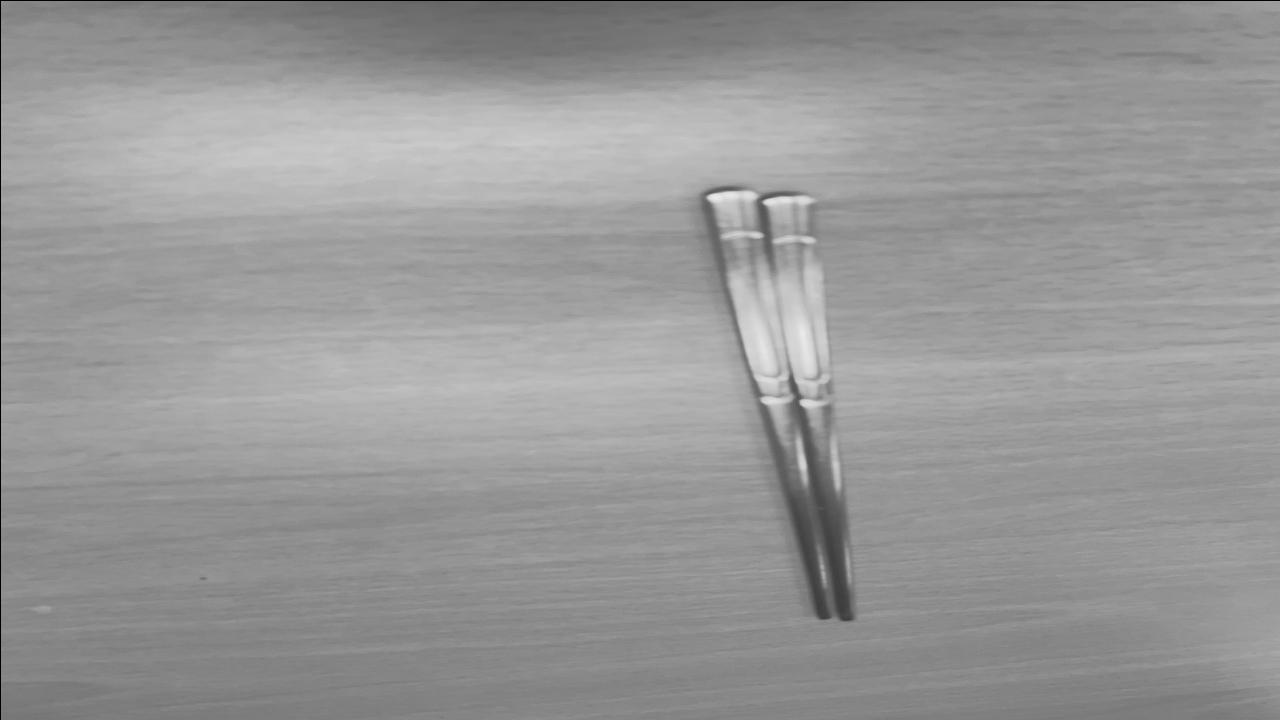chopstick: (709, 192, 850, 620)
